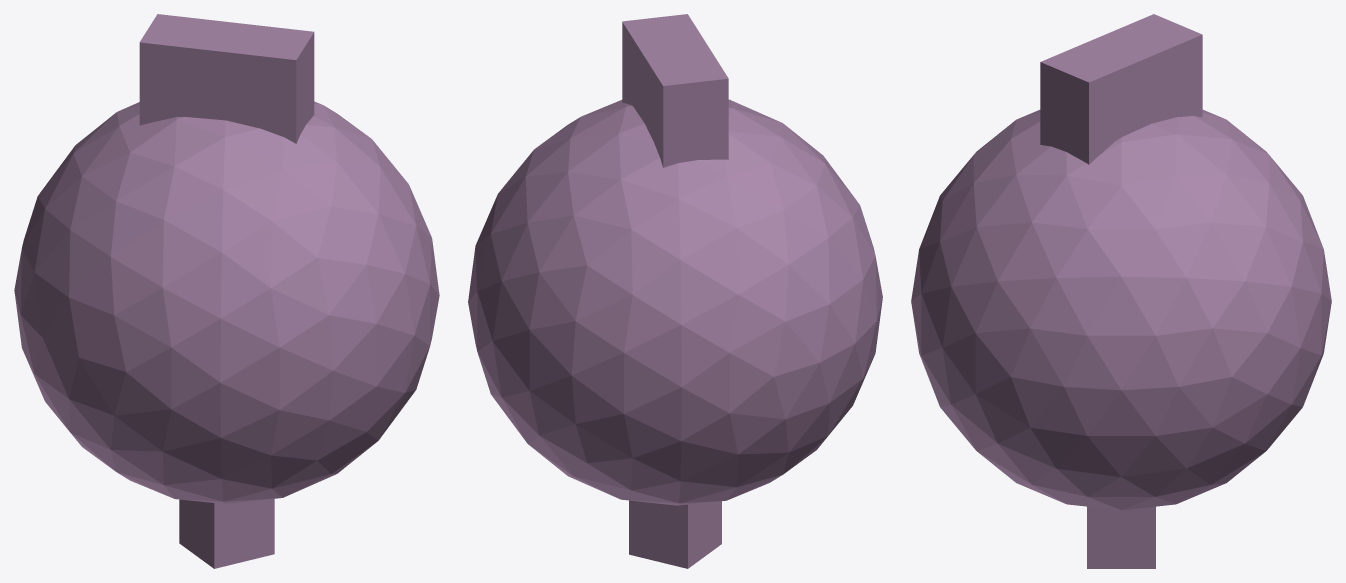
File: luxury_198.glb
The picture shows the model from 3 angles, left to right: view 1: azimuth 30°, elevation 25°; view 2: azimuth 150°, elevation 25°; view 3: azimuth 270°, elevation 25°; orthographic projection. The views are drawn at different scales.
Visible parts, largest first — view 1: world; view 2: world; view 3: world.
Part boxes in pixels (<box>): world: <box>14,14,439,568</box>; world: <box>468,14,882,568</box>; world: <box>911,14,1331,568</box>.
Bounding box in the file's own units: 1.1 × 1.46 × 1.1.
